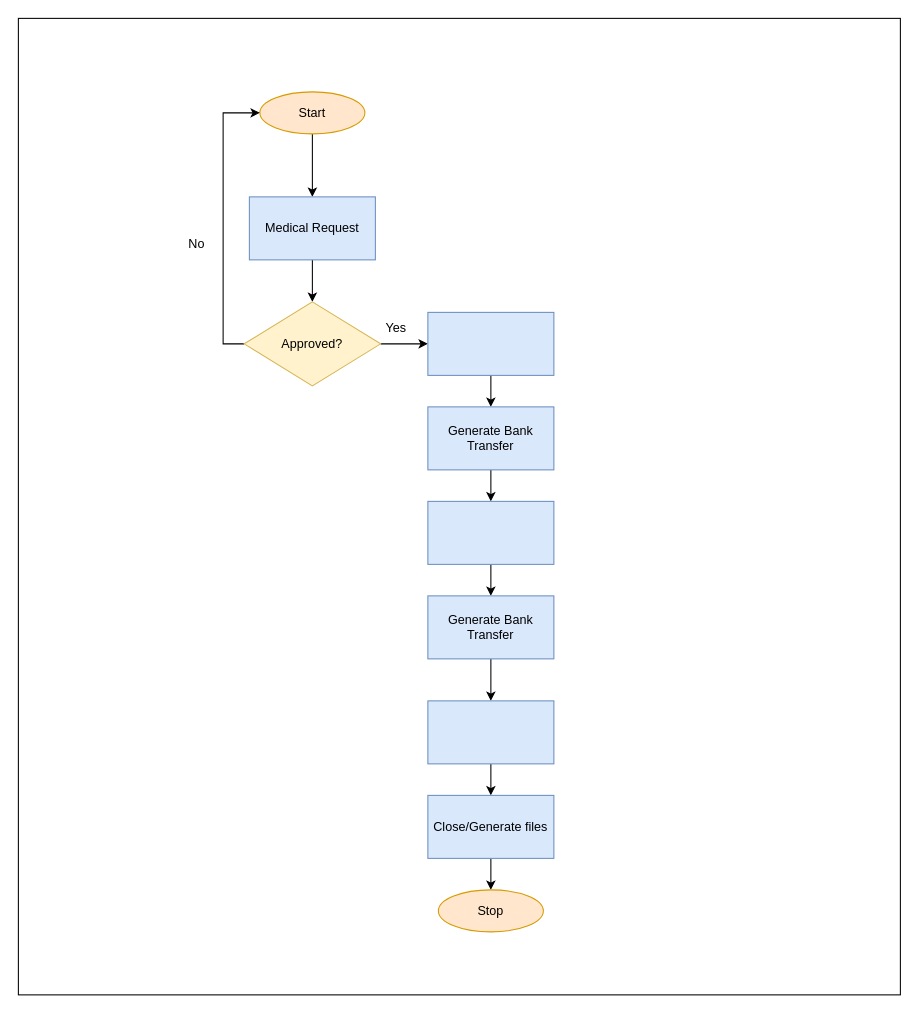
This 919x1013 diagram has some shape labels left out. The shapes that lost their labels are listed below. From the top down, each one's centre as x and y in pixels, then its label:
At point 490,343: "Generate Cash Proof".
At point 490,532: "Bank Transfer Request Group".
At point 490,732: "Confirm".
